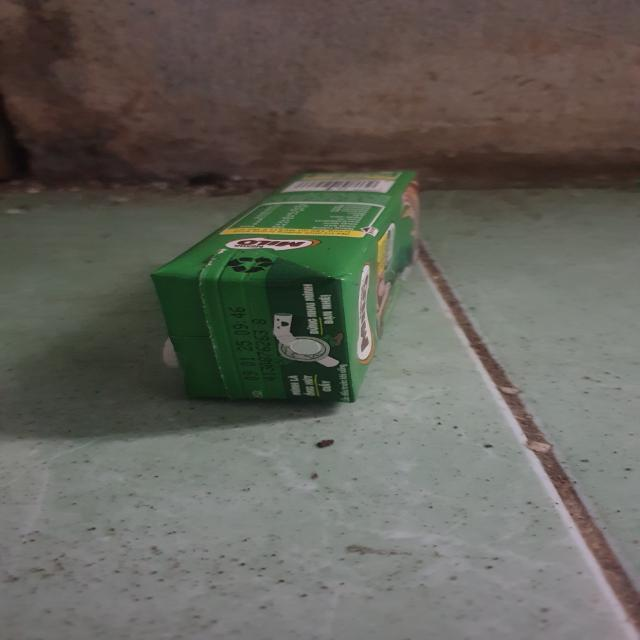Milo: (165, 168, 422, 412)
